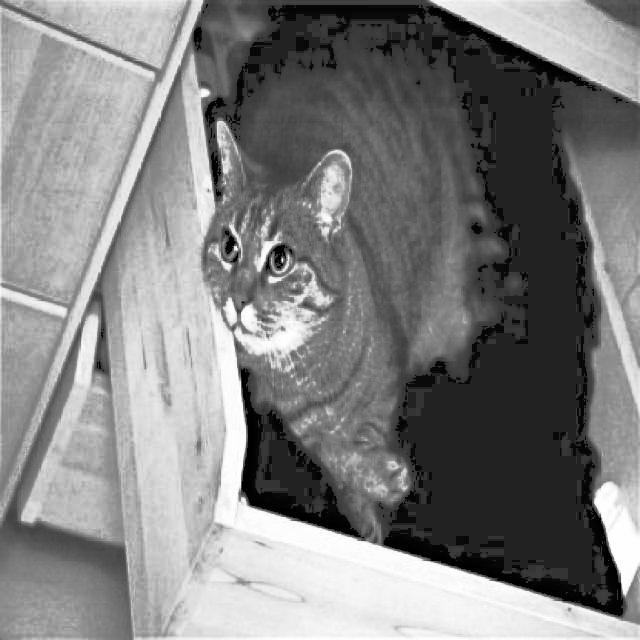Cat: (199, 18, 516, 544)
